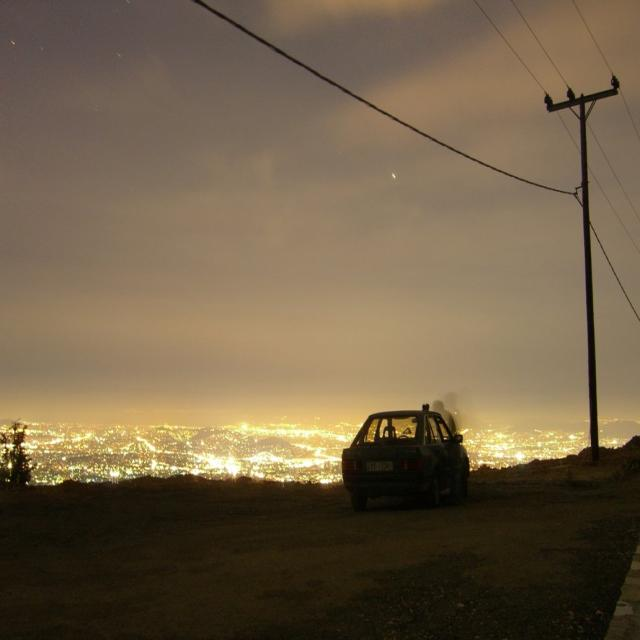car: (331, 395, 492, 524)
